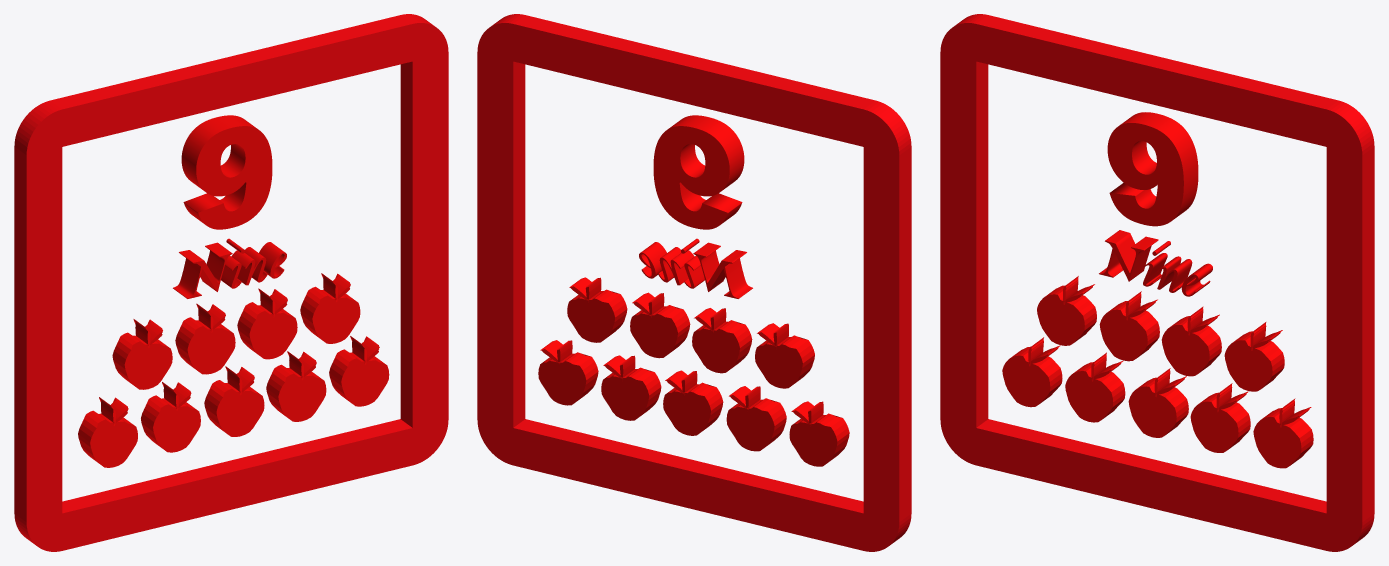
Rendered from Number_9.glb.
3 renders of one model, left to right at view 1: azimuth 30°, elevation 25°; view 2: azimuth 150°, elevation 25°; view 3: azimuth 330°, elevation 25°, orthographic.
Parts seen in each view (by area): view 1: Cube, Text, Text.001, Cylinder.003, Cylinder.007, Cylinder, Cylinder.011, Cylinder.012, Cylinder.004, Cylinder.008, Cylinder.017, Cylinder.015; view 2: Cube, Text, Text.001, Cylinder.011, Cylinder.012, Cylinder, Cylinder.015, Cylinder.008, Cylinder.003, Cylinder.004, Cylinder.017, Cylinder.007; view 3: Cube, Text, Text.001, Cylinder.012, Cylinder.011, Cylinder.004, Cylinder.015, Cylinder.017, Cylinder.008, Cylinder.003, Cylinder, Cylinder.007.
Part boxes in pixels (left/top/right/bottom): Cube: left=14, top=14, right=448, bottom=551; Text: left=181, top=115, right=272, bottom=229; Text.001: left=173, top=238, right=286, bottom=298; Cylinder.003: left=175, top=317, right=235, bottom=374; Cylinder.007: left=237, top=302, right=297, bottom=359; Cylinder: left=112, top=332, right=172, bottom=389; Cylinder.011: left=329, top=349, right=389, bottom=406; Cylinder.012: left=141, top=395, right=200, bottom=452; Cylinder.004: left=300, top=286, right=360, bottom=343; Cylinder.008: left=266, top=364, right=326, bottom=421; Cylinder.017: left=204, top=380, right=264, bottom=436; Cylinder.015: left=78, top=410, right=137, bottom=467; Cube: left=477, top=14, right=911, bottom=551; Text: left=653, top=115, right=744, bottom=229; Text.001: left=639, top=238, right=752, bottom=298; Cylinder.011: left=538, top=352, right=598, bottom=405; Cylinder.012: left=726, top=398, right=786, bottom=451; Cylinder: left=755, top=335, right=814, bottom=388; Cylinder.015: left=789, top=413, right=849, bottom=466; Cylinder.008: left=601, top=367, right=661, bottom=420; Cylinder.003: left=692, top=320, right=752, bottom=373; Cylinder.004: left=567, top=289, right=627, bottom=342; Cylinder.017: left=663, top=382, right=723, bottom=435; Cylinder.007: left=630, top=305, right=690, bottom=358; Cube: left=940, top=14, right=1374, bottom=551; Text: left=1107, top=112, right=1198, bottom=226; Text.001: left=1099, top=230, right=1212, bottom=296; Cylinder.012: left=1065, top=362, right=1125, bottom=422; Cylinder.011: left=1253, top=408, right=1313, bottom=468; Cylinder.004: left=1224, top=331, right=1284, bottom=391; Cylinder.015: left=1002, top=346, right=1062, bottom=407; Cylinder.017: left=1128, top=377, right=1188, bottom=437; Cylinder.008: left=1190, top=392, right=1250, bottom=452; Cylinder.003: left=1099, top=301, right=1159, bottom=361; Cylinder: left=1037, top=285, right=1096, bottom=345; Cylinder.007: left=1161, top=316, right=1221, bottom=376.
Size of the model in its own units: 2 by 2 by 0.1386.
